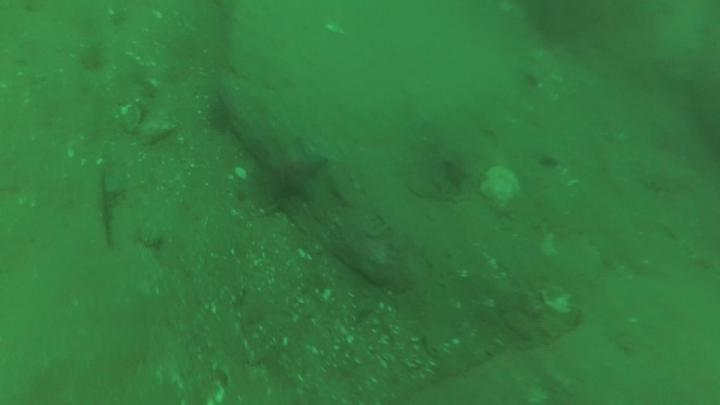holothurian: (634, 155, 706, 197)
scallop: (476, 164, 523, 219)
starfish: (258, 132, 332, 209)
